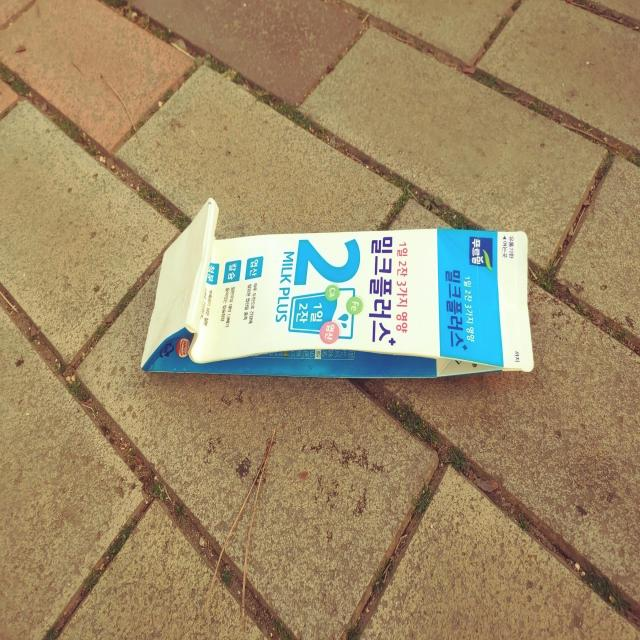paperpack: (141, 198, 534, 378)
